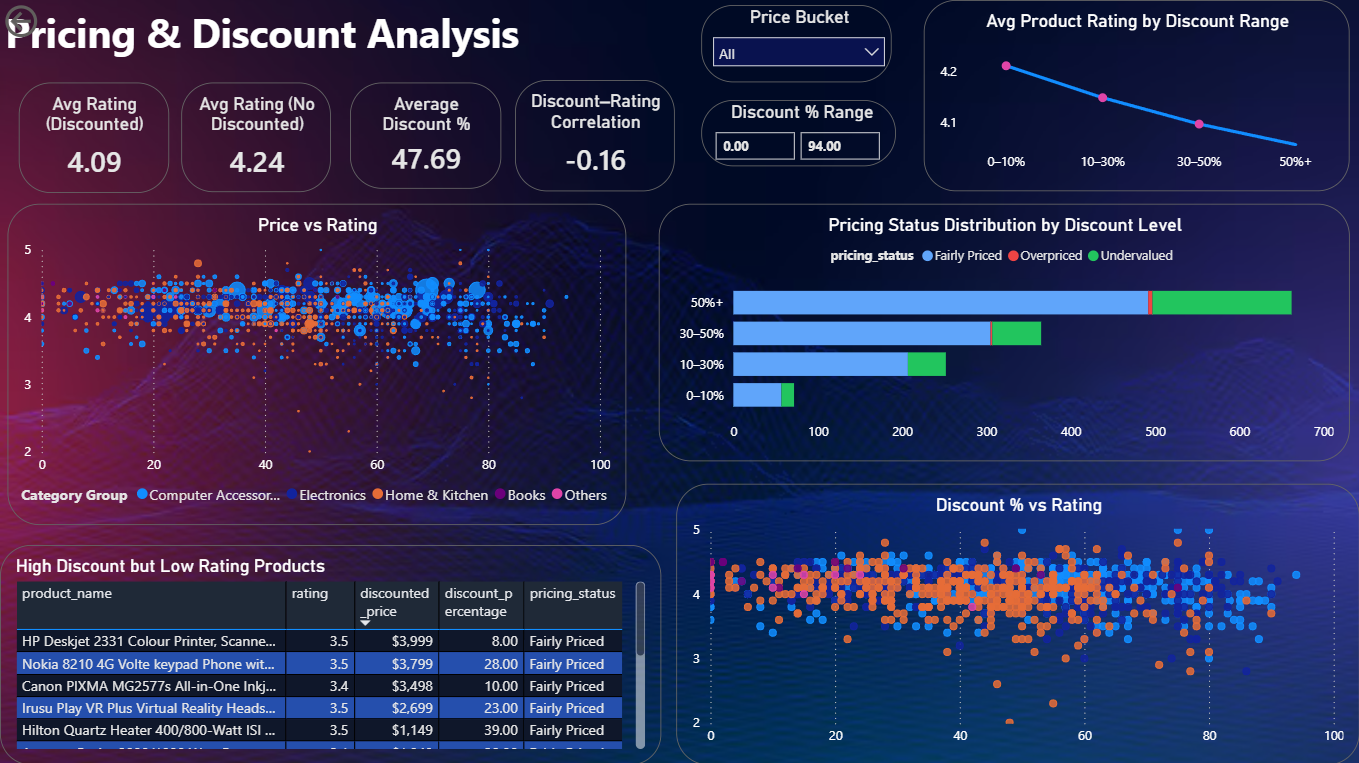

The page's visual inventory and layout, read from the dashboard file:
{"tool":"powerbi","page":{"name":"Page 2","canvas":[1280,720],"ordinal":1},"visuals":[{"type":"textbox","box":[0,0,502.3,87.2],"z":0},{"type":"scatterChart","title":"Price vs Rating ","fields":{"Size":["Sum(amazon_final_eda.rating_count)"],"X":["Avg(amazon_final_eda.discount_percentage)"],"Y":["Avg(amazon_final_eda.rating)"],"Series":["amazon_final_eda.Category Group"],"Category":["amazon_final_eda.product_name"]},"box":[7.1,191.8,582.4,302.4],"z":1000},{"type":"lineChart","fields":{"Y":["amazon_final_eda.Avg Product Rating"],"Category":["amazon_final_eda.Discount Range"]},"box":[869.4,0,401.2,180],"z":2000},{"type":"scatterChart","title":"Discount % vs Rating","fields":{"X":["Avg(amazon_final_eda.discount_percentage)"],"Y":["Avg(amazon_final_eda.rating)"],"Category":["amazon_final_eda.product_name"],"Series":["amazon_final_eda.Category Group"]},"box":[636.5,455.3,643.5,264.7],"z":3000},{"type":"tableEx","title":"High Discount but Low Rating Products","fields":{"Values":["amazon_final_eda.product_name","amazon_final_eda.rating","amazon_final_eda.discounted_price","amazon_final_eda.discount_percentage","amazon_final_eda.pricing_status"]},"box":[0,512.9,622.4,207.1],"z":4000},{"type":"actionButton","box":[0,0,100,40],"z":5000},{"type":"slicer","title":"Discount % Range","fields":{"Values":["amazon_final_eda.discount_percentage"]},"box":[660,94.1,183.5,62.4],"z":6000},{"type":"slicer","title":"Price Bucket","fields":{"Values":["amazon_final_eda.Price Bucket"]},"box":[660,4.7,178.8,72.9],"z":7000},{"type":"barChart","title":"Pricing Status Distribution by Discount Level","fields":{"Category":["amazon_final_eda.Discount Range"],"Y":["amazon_final_eda.Product Count"],"Series":["amazon_final_eda.pricing_status"]},"box":[620,191.8,650.6,242.4],"z":8000},{"type":"cardVisual","title":"Avg Rating (Discounted)","fields":{"Data":["amazon_final_eda.Avg Rating (Discounted)"]},"box":[17.5,77.5,141.2,103.8],"z":9000},{"type":"cardVisual","title":"Avg Rating (No Discounted)","fields":{"Data":["amazon_final_eda.Avg Rating (No Discount)"]},"box":[170.6,77.6,141.2,103.5],"z":10000},{"type":"cardVisual","title":"Average Discount %","fields":{"Data":["Avg(amazon_final_eda.discount_percentage)"]},"box":[329.4,77.6,142.4,100],"z":11000},{"type":"cardVisual","title":"Discount–Rating Correlation","fields":{"Data":["amazon_final_eda.Correlation Discount Rating"]},"box":[484.7,75.3,150.6,104.7],"z":12000}]}

Visuals, with their boxes in screenshot pixels (x1, y1, x2, y2), scaled from the page's 1280x720 canvas onto the 1359x763 screenshot:
textbox: x1=0, y1=0, x2=533, y2=92
"Price vs Rating " scatterChart: x1=8, y1=203, x2=626, y2=524
lineChart - amazon_final_eda.Avg Product Rating x amazon_final_eda.Discount Range: x1=923, y1=0, x2=1349, y2=191
"Discount % vs Rating" scatterChart: x1=676, y1=482, x2=1358, y2=762
"High Discount but Low Rating Products" tableEx: x1=0, y1=544, x2=661, y2=762
actionButton: x1=0, y1=0, x2=106, y2=42
"Discount % Range" slicer: x1=701, y1=100, x2=896, y2=166
"Price Bucket" slicer: x1=701, y1=5, x2=891, y2=82
"Pricing Status Distribution by Discount Level" barChart: x1=658, y1=203, x2=1349, y2=460
"Avg Rating (Discounted)" cardVisual: x1=19, y1=82, x2=168, y2=192
"Avg Rating (No Discounted)" cardVisual: x1=181, y1=82, x2=331, y2=192
"Average Discount %" cardVisual: x1=350, y1=82, x2=501, y2=188
"Discount–Rating Correlation" cardVisual: x1=515, y1=80, x2=675, y2=191
